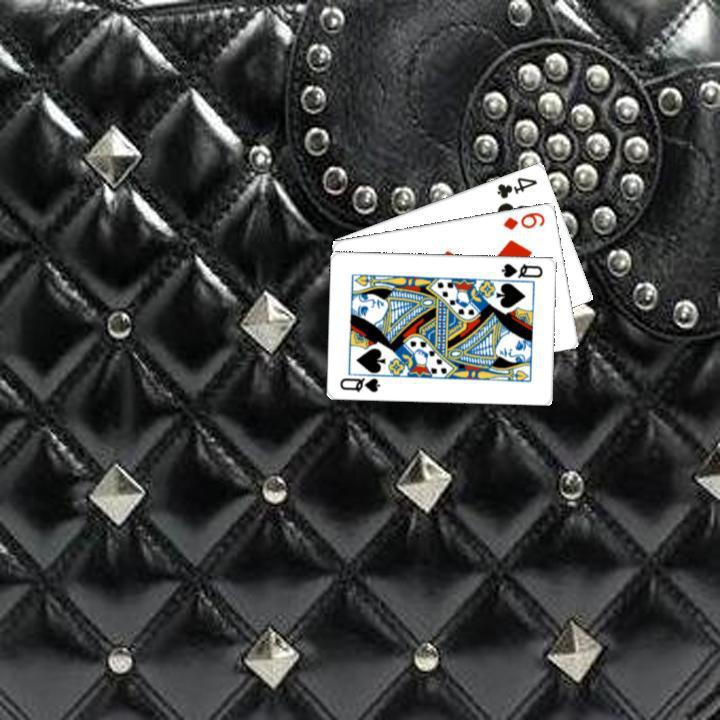4: (492, 172, 540, 200)
6: (499, 207, 547, 232)
Q: (497, 258, 545, 280), (336, 373, 382, 394)
